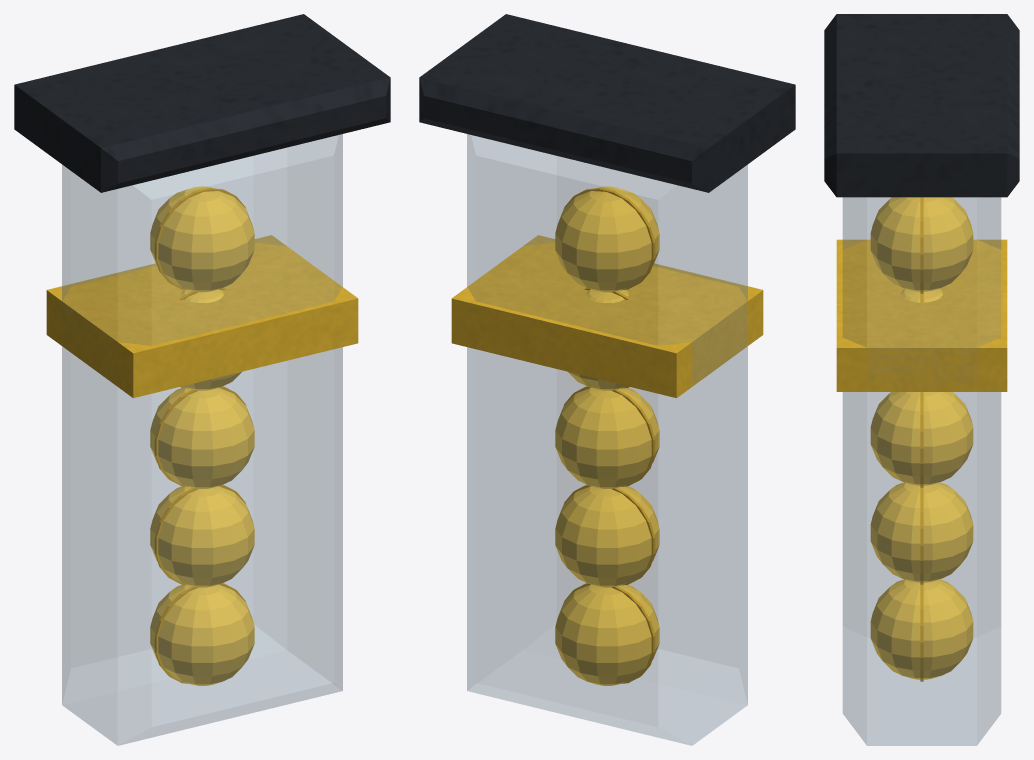
File: hopper_stick_mag_v2.glb
3 views of the same model, side by side, from view 1: azimuth 30°, elevation 25°; view 2: azimuth 150°, elevation 25°; view 3: azimuth 270°, elevation 25° (orthographic).
Parts seen in each view (by area): view 1: hopper_stick_mag_mesh, paintball_04, paintball_01, paintball_00, paintball_02, paintball_03; view 2: hopper_stick_mag_mesh, paintball_04, paintball_01, paintball_00, paintball_02, paintball_03; view 3: hopper_stick_mag_mesh, paintball_00, paintball_01, paintball_04, paintball_02, paintball_03.
Boxes of the visible parts, box(x1,y1,x2,y2) form: hopper_stick_mag_mesh: box(14, 14, 390, 745); paintball_04: box(150, 186, 254, 292); paintball_01: box(150, 484, 254, 587); paintball_00: box(150, 583, 254, 685); paintball_02: box(150, 386, 254, 488); paintball_03: box(179, 287, 241, 390); hopper_stick_mag_mesh: box(419, 14, 795, 745); paintball_04: box(555, 186, 659, 292); paintball_01: box(555, 484, 659, 587); paintball_00: box(555, 583, 659, 685); paintball_02: box(555, 386, 659, 488); paintball_03: box(568, 287, 630, 390); hopper_stick_mag_mesh: box(824, 14, 1019, 745); paintball_00: box(870, 579, 973, 681); paintball_01: box(870, 482, 973, 584); paintball_04: box(870, 197, 973, 293); paintball_02: box(870, 392, 973, 487); paintball_03: box(901, 288, 942, 304).
Size of the model in its own units: 0.054 by 0.11 by 0.032.
5 materials, 2 textured.
